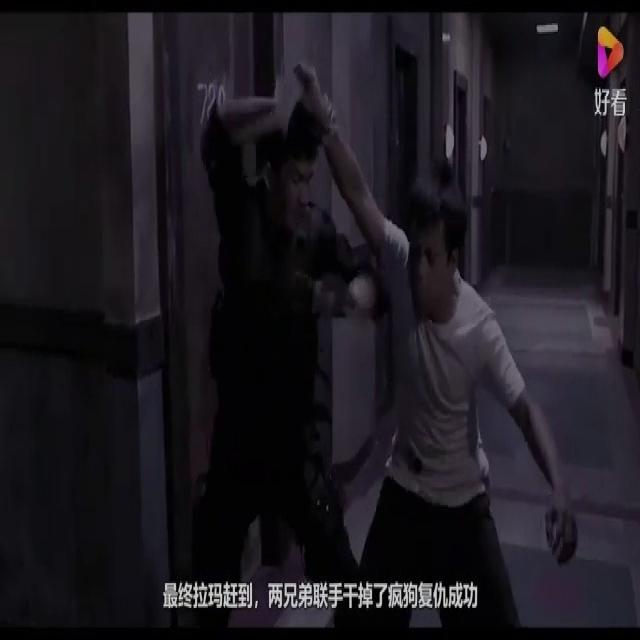fight: (183, 54, 575, 636)
